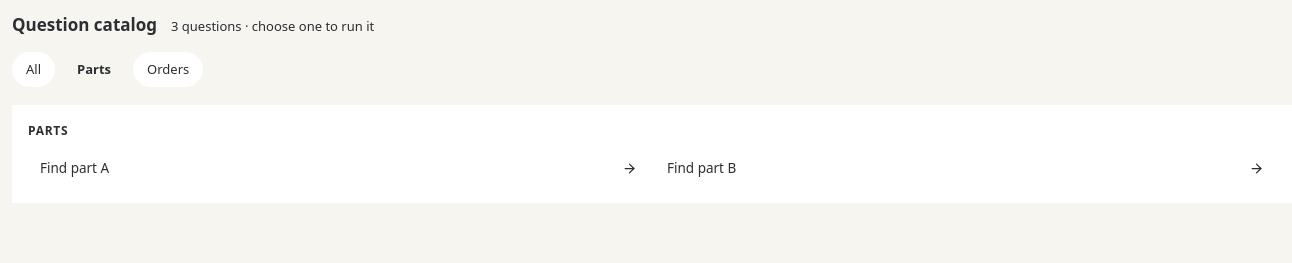
Scenario: question catalog › shows every question by category, as selectable options
What coordinates should you click on to do the following:
click the button "All"
I would click on:
 (34, 70)
Its box is [12, 52, 55, 87].
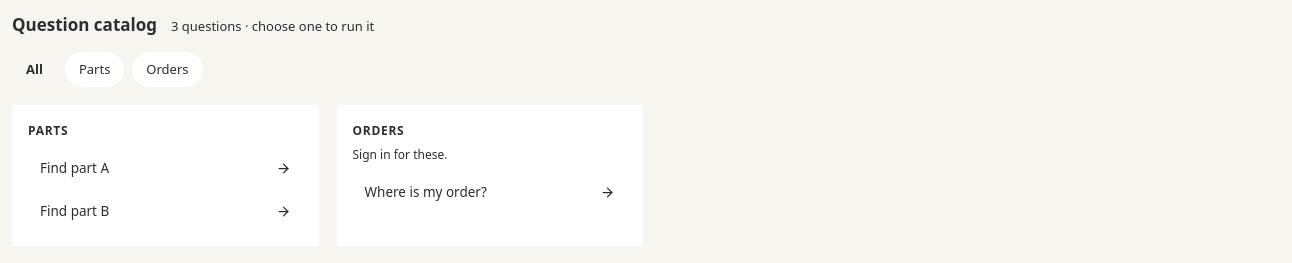
Expected: the buttons read "Find part A", "Find part B", in this order, [28, 150, 302, 187]; [28, 193, 302, 230]
Expected: the button "Where is my order?" is shown, [352, 174, 627, 210]
Expected: the text "Sign in for these." is shown, [352, 146, 448, 163]
